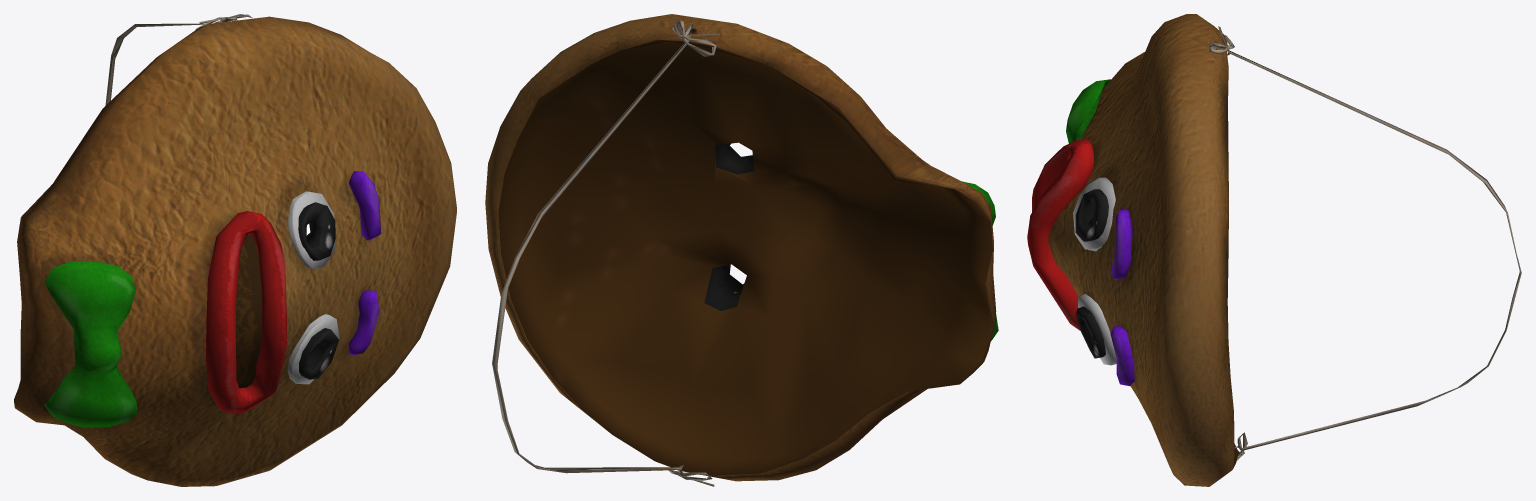
File: M_GingerbreadMask.fbx
3 views of the same model, side by side, from view 1: azimuth 30°, elevation 25°; view 2: azimuth 150°, elevation 25°; view 3: azimuth 270°, elevation 25° (orthographic). The views are drawn at different scales.
Parts seen in each view (by area): view 1: 24_Mask_0.5_16_16; view 2: 24_Mask_0.5_16_16; view 3: 24_Mask_0.5_16_16.
Boxes of the visible parts, box(x1,y1,x2,y2) form: 24_Mask_0.5_16_16: box(14, 14, 456, 486); 24_Mask_0.5_16_16: box(485, 14, 998, 486); 24_Mask_0.5_16_16: box(1027, 14, 1521, 486).
Bounding box in the file's own units: 0.1811 × 0.1676 × 0.1748.
